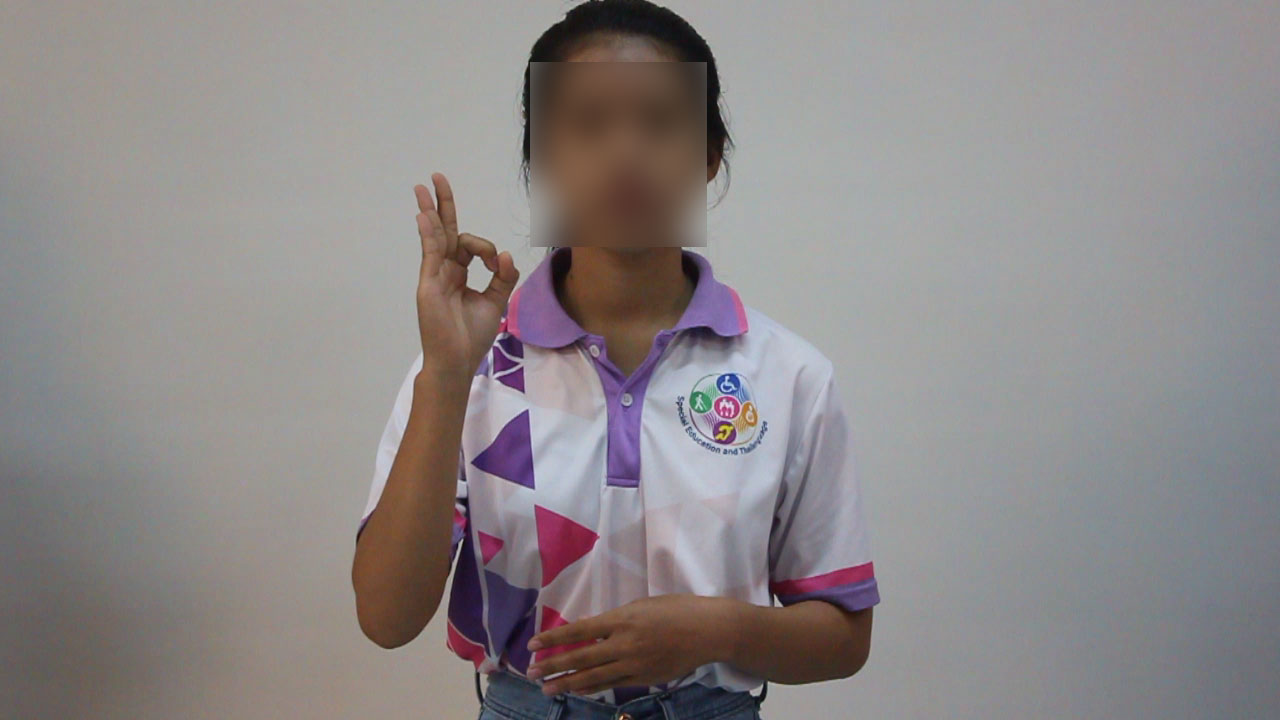for: (400, 166, 525, 387)
